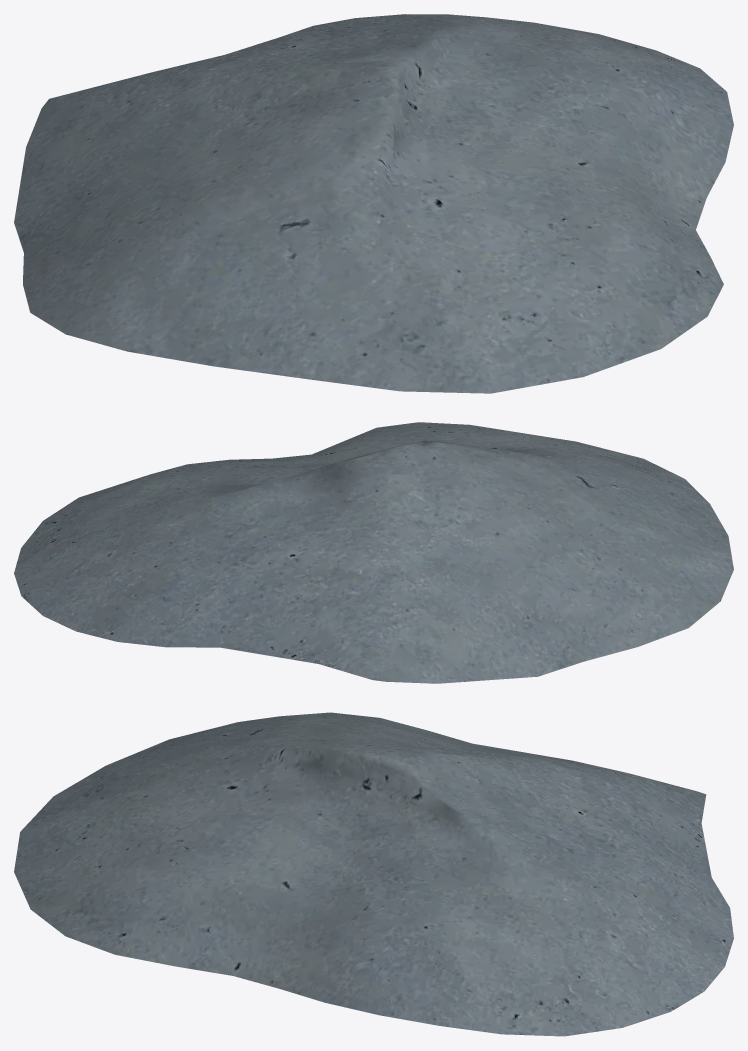
The model's file is tesv_snowdrifitm01int-transformed.glb.
The picture shows the model from 3 angles, top to bottom: view 1: azimuth 30°, elevation 25°; view 2: azimuth 150°, elevation 25°; view 3: azimuth 270°, elevation 25°; orthographic projection. The views are drawn at different scales.
Parts seen in each view (by area): view 1: snowdriftm01int; view 2: snowdriftm01int; view 3: snowdriftm01int.
Boxes of the visible parts, x1,y1,x2,y2 form: snowdriftm01int: [14, 14, 733, 393]; snowdriftm01int: [14, 422, 733, 683]; snowdriftm01int: [14, 712, 733, 1036].
Bounding box in the file's own units: 7.42 × 1.42 × 7.1.
1 material, 1 textured.
